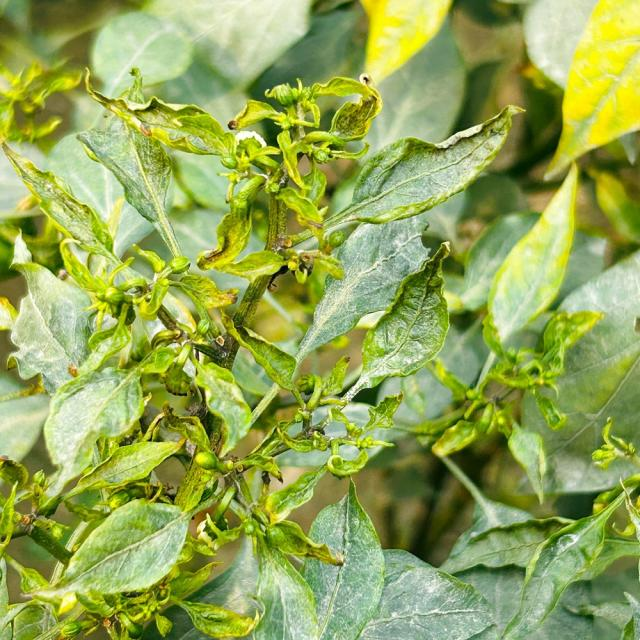Chilli_Leaf_Curl: (1, 2, 638, 638), (316, 102, 526, 244), (286, 214, 432, 390), (338, 239, 452, 406), (25, 497, 192, 611), (542, 0, 639, 182), (82, 65, 237, 163)
